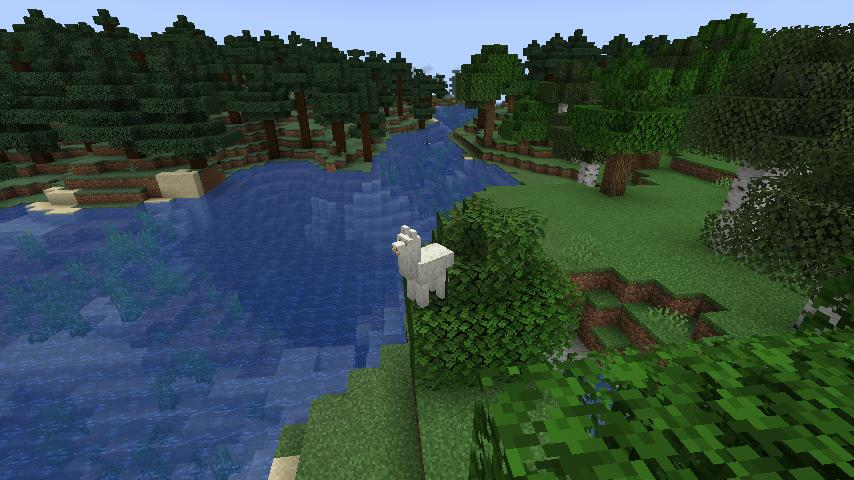llama: (390, 222, 452, 309)
